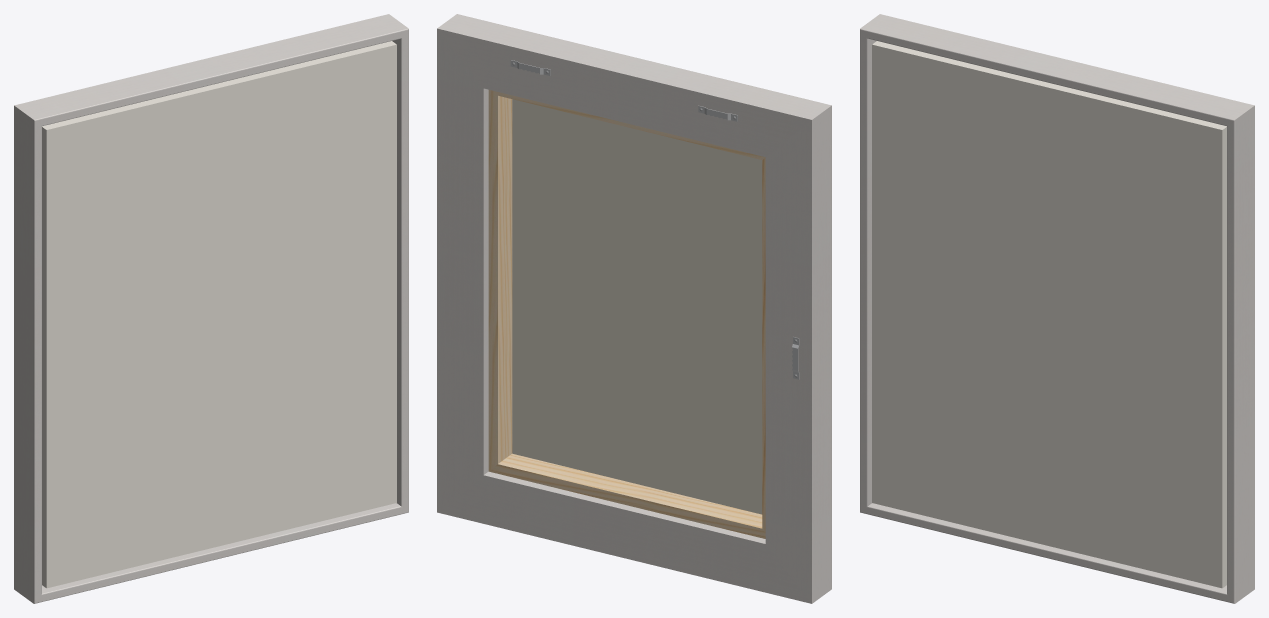
The model's file is decoded-from-delivery.glb.
3 views of the same model, side by side, from view 1: azimuth 30°, elevation 25°; view 2: azimuth 150°, elevation 25°; view 3: azimuth 330°, elevation 25° (orthographic).
Parts seen in each view (by area): view 1: Canvas artwork front, Tray approved profile 0; view 2: Tray approved profile 0, Canvas linen reverse, Stretcher top, Sawtooth hanger 0; view 3: Canvas artwork front, Tray approved profile 0.
Part boxes in pixels (x1,y1,x2,y2): Canvas artwork front: (42, 41, 396, 588); Tray approved profile 0: (14, 14, 408, 603); Tray approved profile 0: (437, 14, 831, 603); Canvas linen reverse: (512, 99, 762, 514); Stretcher top: (488, 90, 765, 538); Sawtooth hanger 0: (510, 60, 799, 379); Canvas artwork front: (872, 41, 1226, 588); Tray approved profile 0: (860, 14, 1254, 603).
Bounding box in the file's own units: 0.428 × 0.528 × 0.0424.
Materials: 7 (3 with a texture image).
